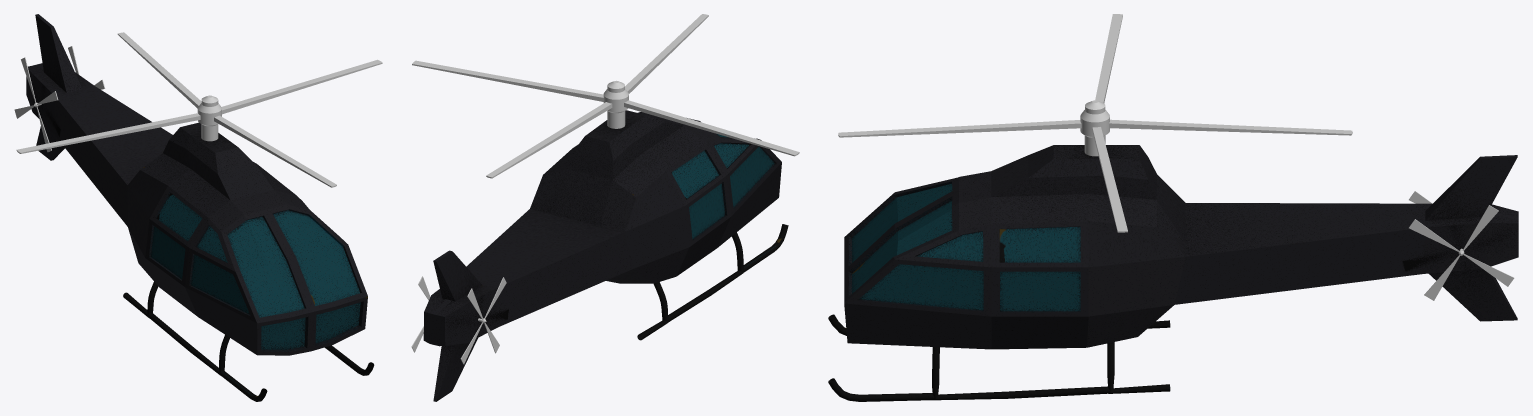
File: anim_000003.obj
3 renders of one model, left to right at view 1: azimuth 30°, elevation 25°; view 2: azimuth 150°, elevation 25°; view 3: azimuth 270°, elevation 25°, orthographic. The views are drawn at different scales.
Parts seen in each view (by area): view 1: Helicopter.007_Cylinder.008, Helicopter.001_Cylinder.001, Helicopter.004_Cylinder.005; view 2: Helicopter.007_Cylinder.008, Helicopter.001_Cylinder.001, Helicopter.004_Cylinder.005; view 3: Helicopter.007_Cylinder.008, Helicopter.001_Cylinder.001, Helicopter.003_Cylinder.004.
Boxes of the visible parts, x1,y1,x2,y2 form: Helicopter.007_Cylinder.008: [26, 14, 374, 401]; Helicopter.001_Cylinder.001: [16, 32, 382, 187]; Helicopter.004_Cylinder.005: [14, 57, 58, 152]; Helicopter.007_Cylinder.008: [423, 110, 788, 401]; Helicopter.001_Cylinder.001: [412, 14, 799, 178]; Helicopter.004_Cylinder.005: [460, 277, 506, 364]; Helicopter.007_Cylinder.008: [828, 145, 1518, 401]; Helicopter.001_Cylinder.001: [838, 14, 1352, 232]; Helicopter.003_Cylinder.004: [1409, 205, 1514, 300].
Bounding box in the file's own units: 5.57 × 3.21 × 7.49.
